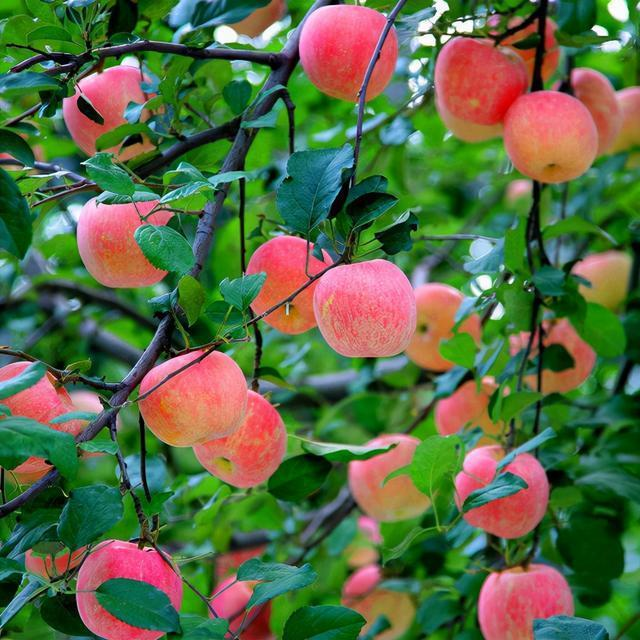apple: (137, 351, 248, 446), (78, 542, 186, 639), (61, 65, 165, 164), (296, 1, 398, 101), (314, 259, 417, 357), (75, 190, 179, 286), (192, 389, 289, 489), (500, 90, 599, 183), (244, 234, 334, 336), (2, 360, 81, 476), (453, 446, 550, 539), (436, 36, 531, 127), (478, 562, 575, 640), (405, 282, 483, 369)
